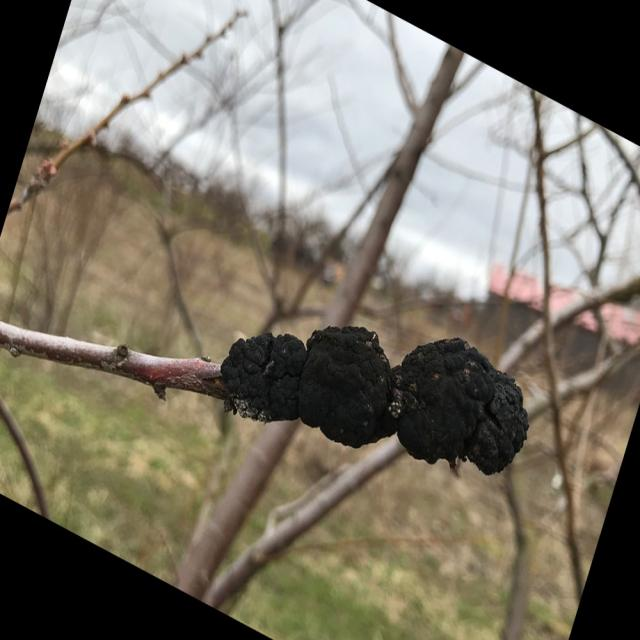Black_knot: (219, 322, 530, 476), (391, 334, 529, 476), (298, 323, 393, 449), (219, 329, 306, 424)
